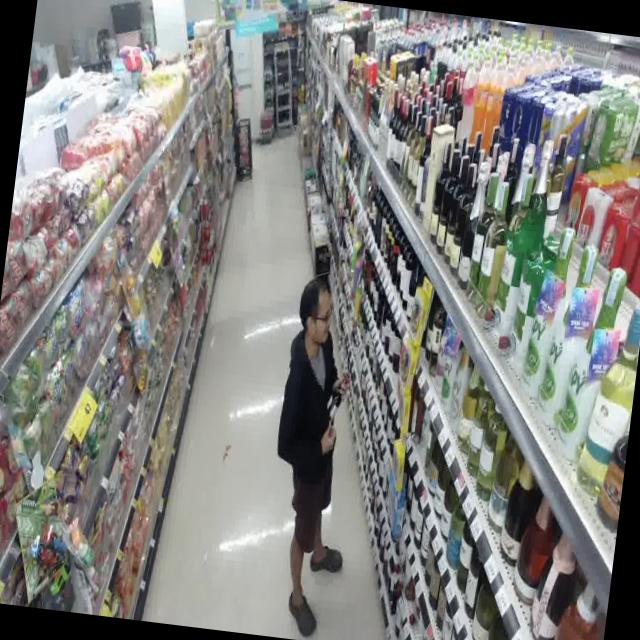shoplifting: (238, 253, 386, 640)
